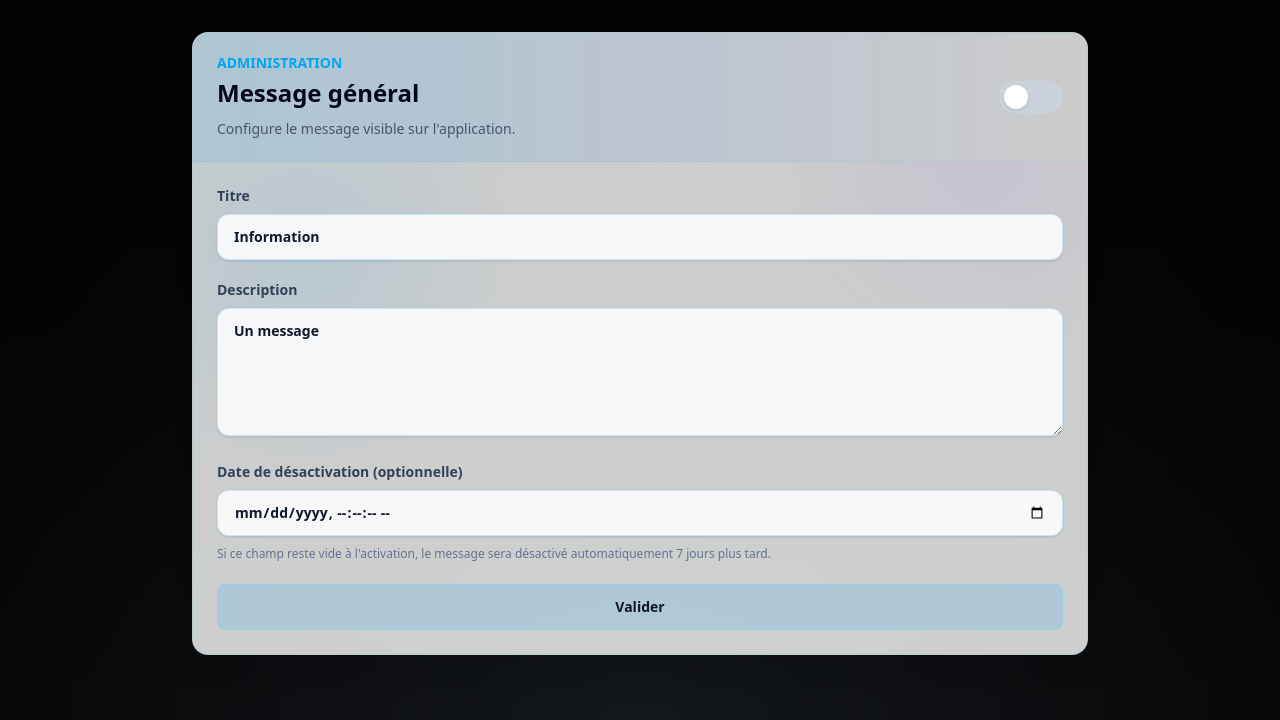
Test case: AdminMessageSettings › envoie la date personnalisée lors de l'activation
Expected: the button named "Activer le message général" is enabled, [999,81,1063,113]
Type "2099-08-10T18:30" into the field labelled "Date de désactivation (optionnelle)" at (640, 513), box [217,490,1063,536]
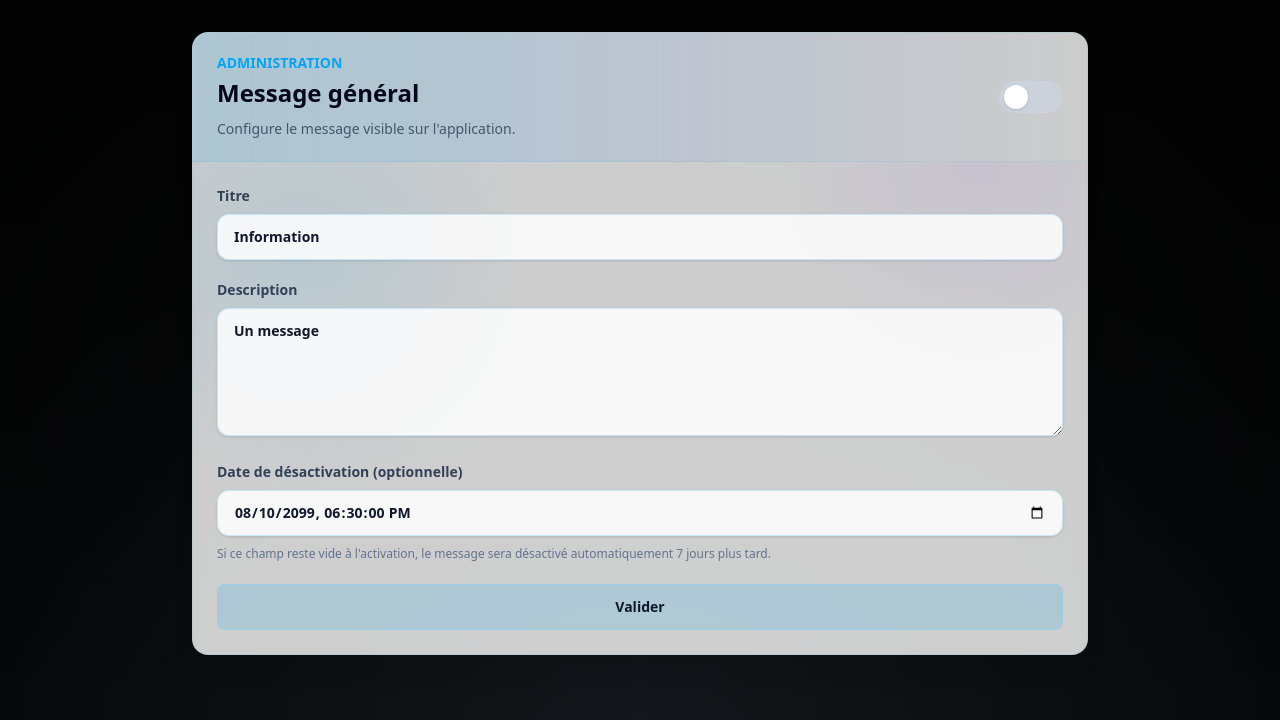
Click the button named "Activer le message général" at (1031, 97), box [999,81,1063,113]
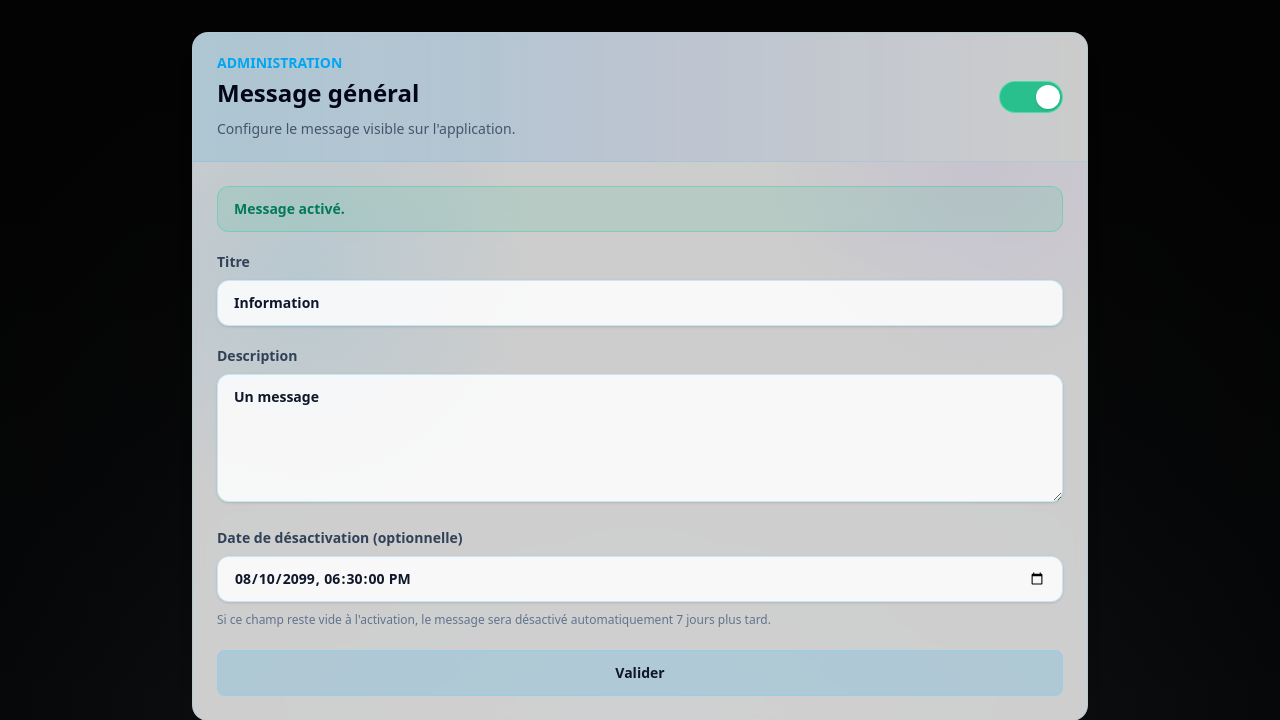
Expected: the text "Message activé." is shown, [217,186,1063,232]
